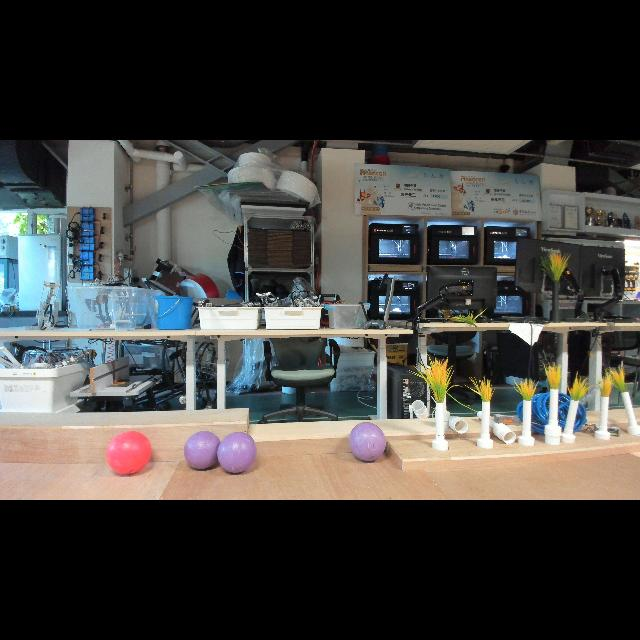P: (217, 430, 260, 476), (182, 430, 224, 472), (348, 421, 388, 462)
R: (105, 429, 155, 476)
